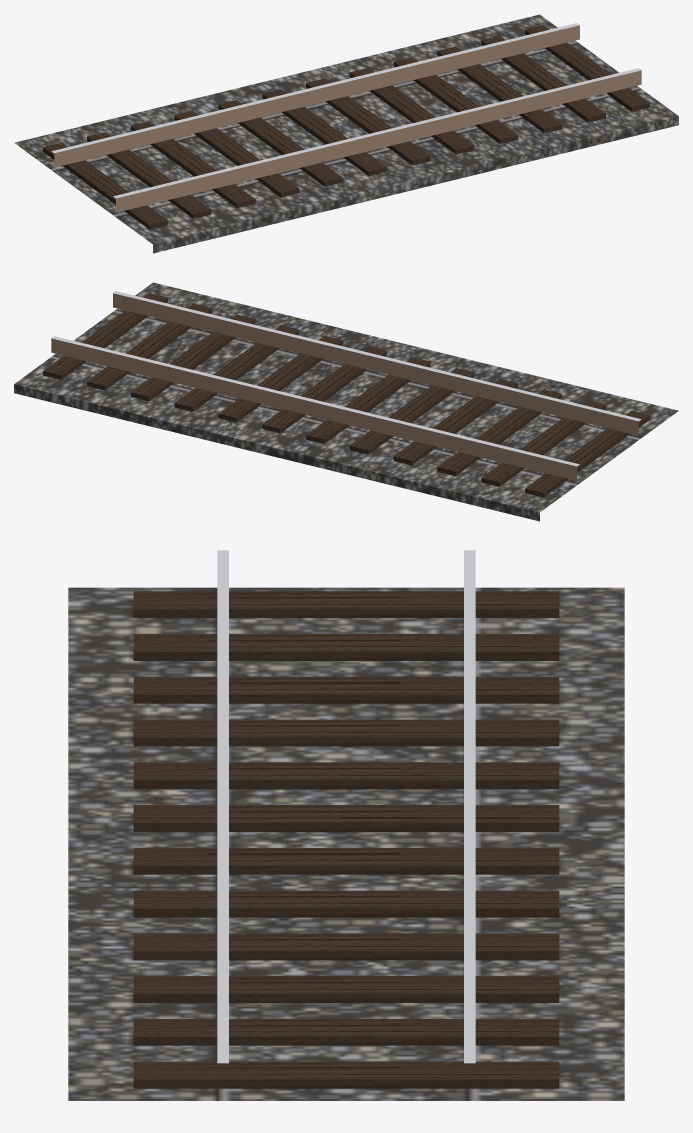
Rendered from kolej_pul_drevo.glb.
3 renders of one model, top to bottom at view 1: azimuth 30°, elevation 25°; view 2: azimuth 150°, elevation 25°; view 3: azimuth 270°, elevation 25°, orthographic. The views are drawn at different scales.
Parts seen in each view (by area): view 1: kolej_pul_drevo; view 2: kolej_pul_drevo; view 3: kolej_pul_drevo.
Boxes of the visible parts, <box> form: kolej_pul_drevo: <box>14,14,678,253</box>; kolej_pul_drevo: <box>14,282,678,521</box>; kolej_pul_drevo: <box>68,550,624,1100</box>.
Bounding box in the file's own units: 7.42 × 0.373 × 3.4.
4 materials, 2 textured.
